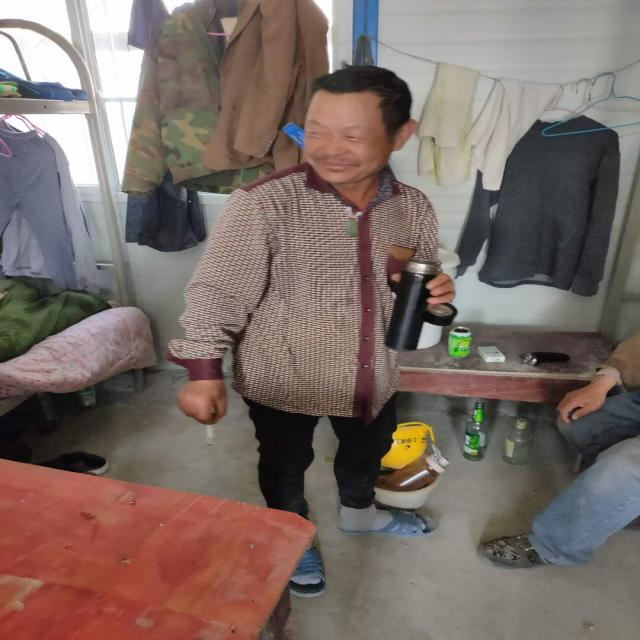cigarette: (206, 421, 216, 445)
